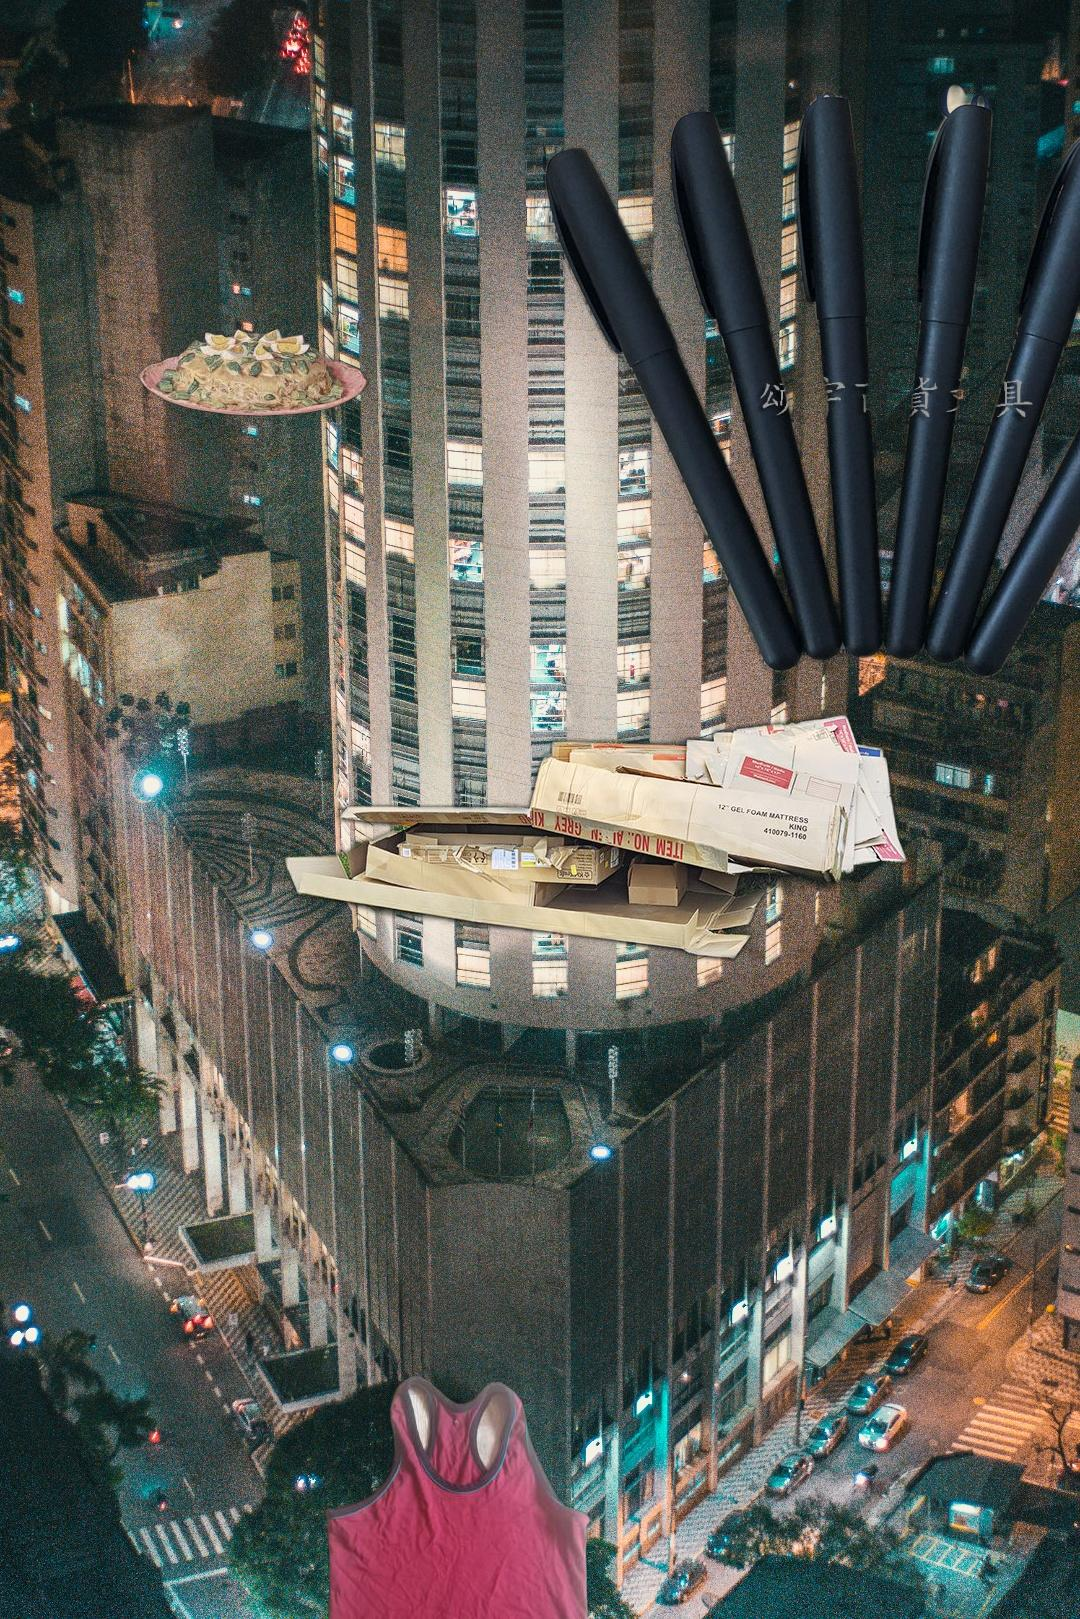biological: (135, 323, 374, 420)
clothes: (307, 1372, 606, 1619)
penholder: (498, 76, 1080, 794)
trashbox-cardboard: (277, 697, 912, 969)
